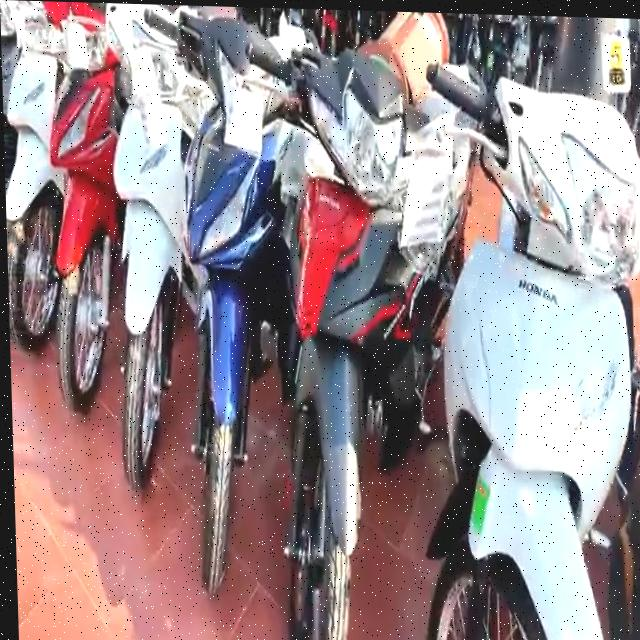motorcycle: (413, 25, 640, 640), (261, 42, 429, 640), (168, 12, 285, 610), (98, 8, 188, 496), (1, 11, 70, 465)
